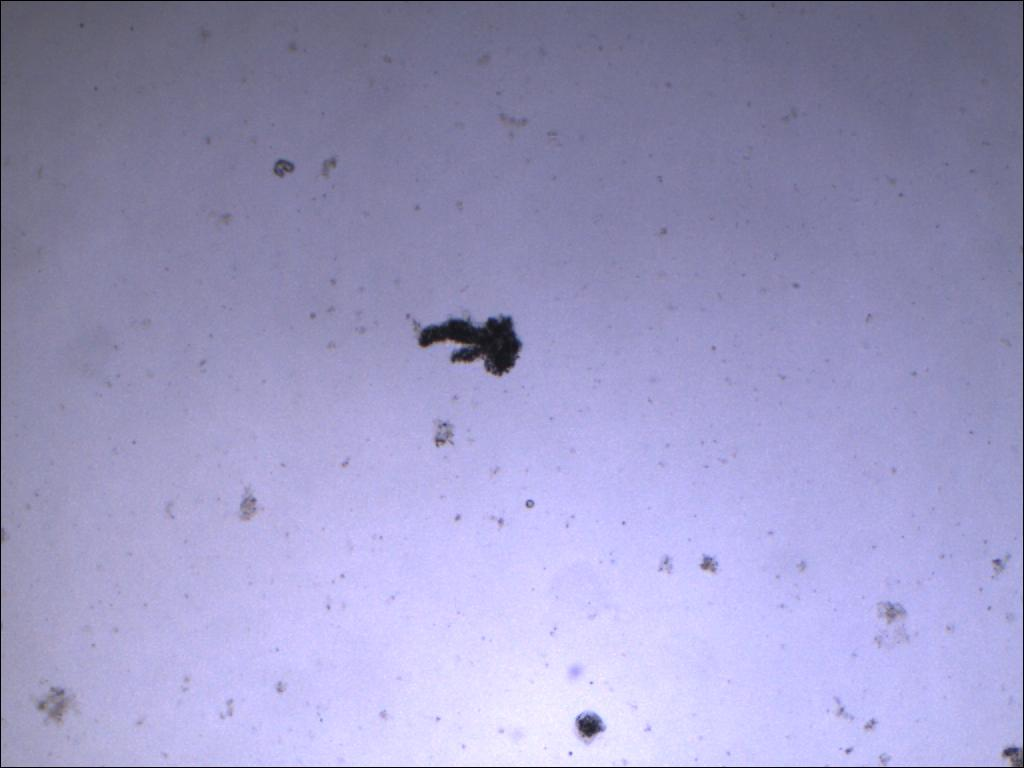amoeba: (408, 305, 531, 382)
